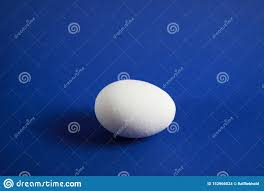egg: (94, 80, 176, 138)
